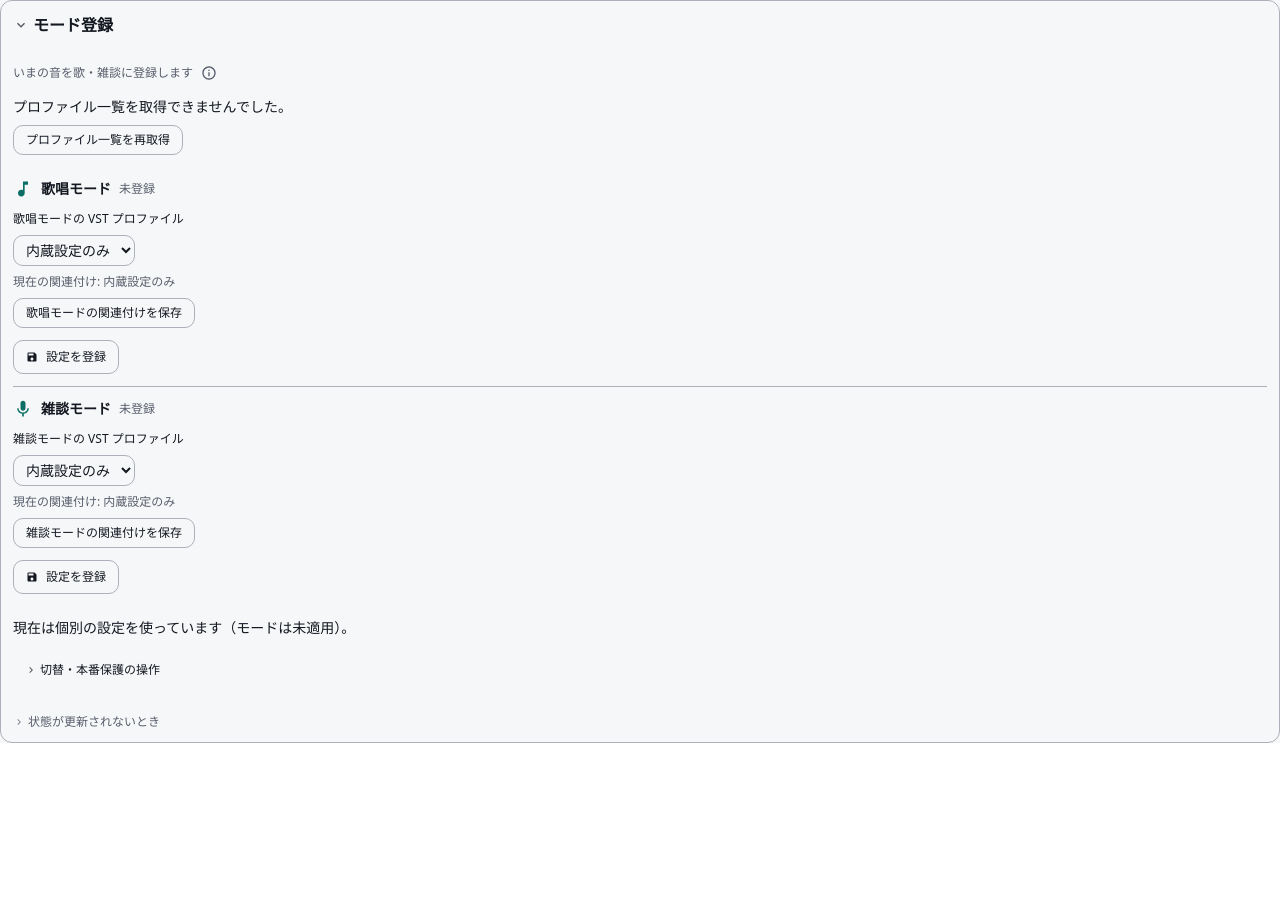
Test case: 一覧取得失敗を表示し再取得できる
Expected: the text "プロファイル一覧を取得できませんでした。" is shown, left=13, top=97, right=292, bottom=116
Click the button "プロファイル一覧を再取得": (98, 140) left=13, top=125, right=183, bottom=155
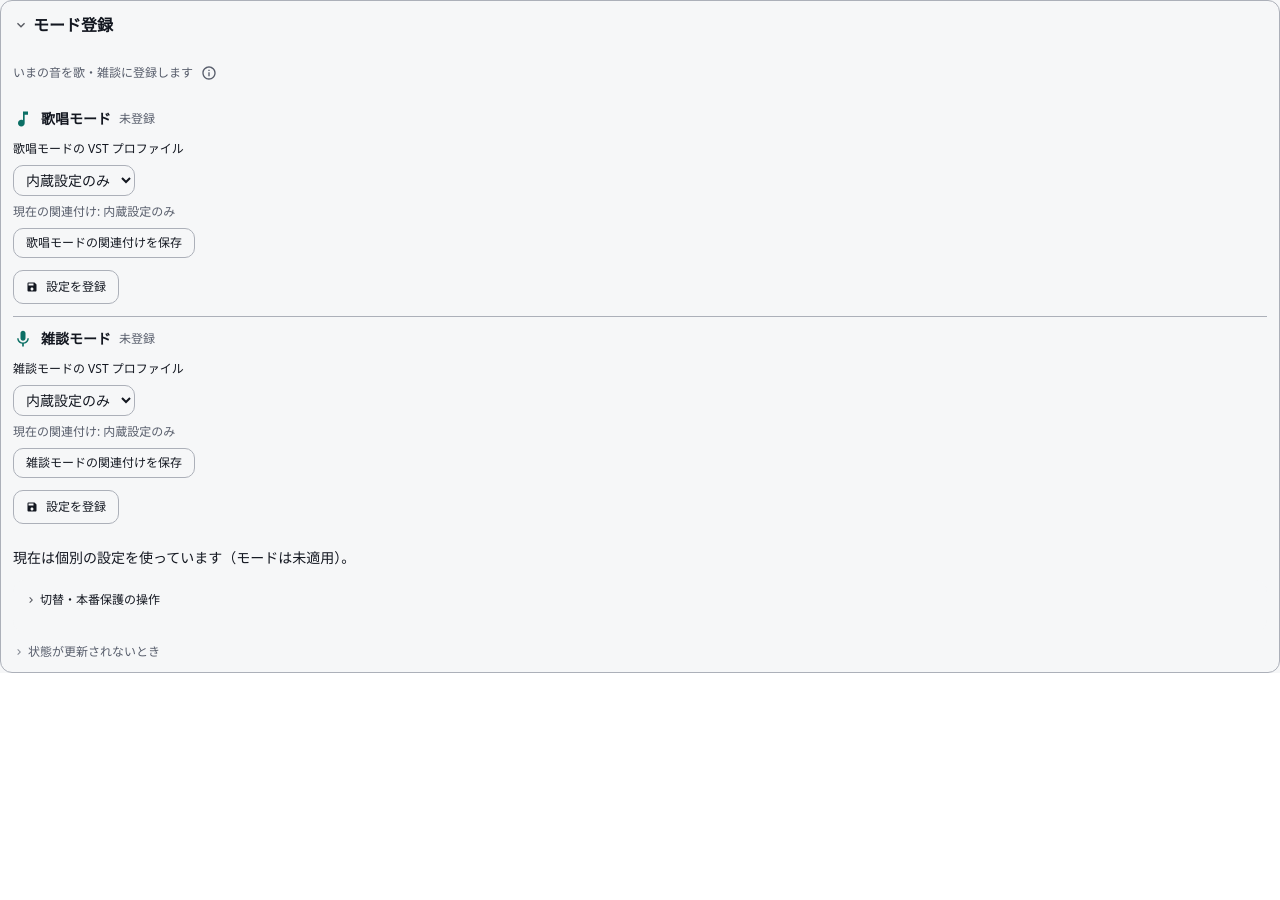
Expected: the text "プロファイル一覧を取得できませんでした。" is gone
